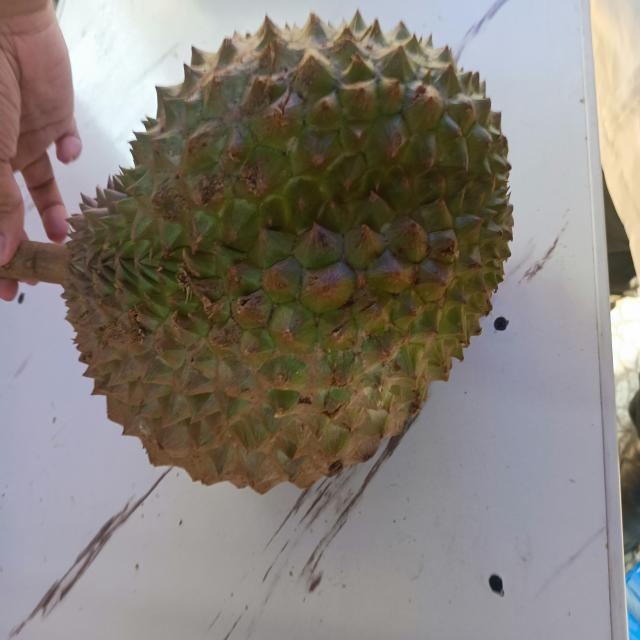mature: (68, 16, 512, 492)
